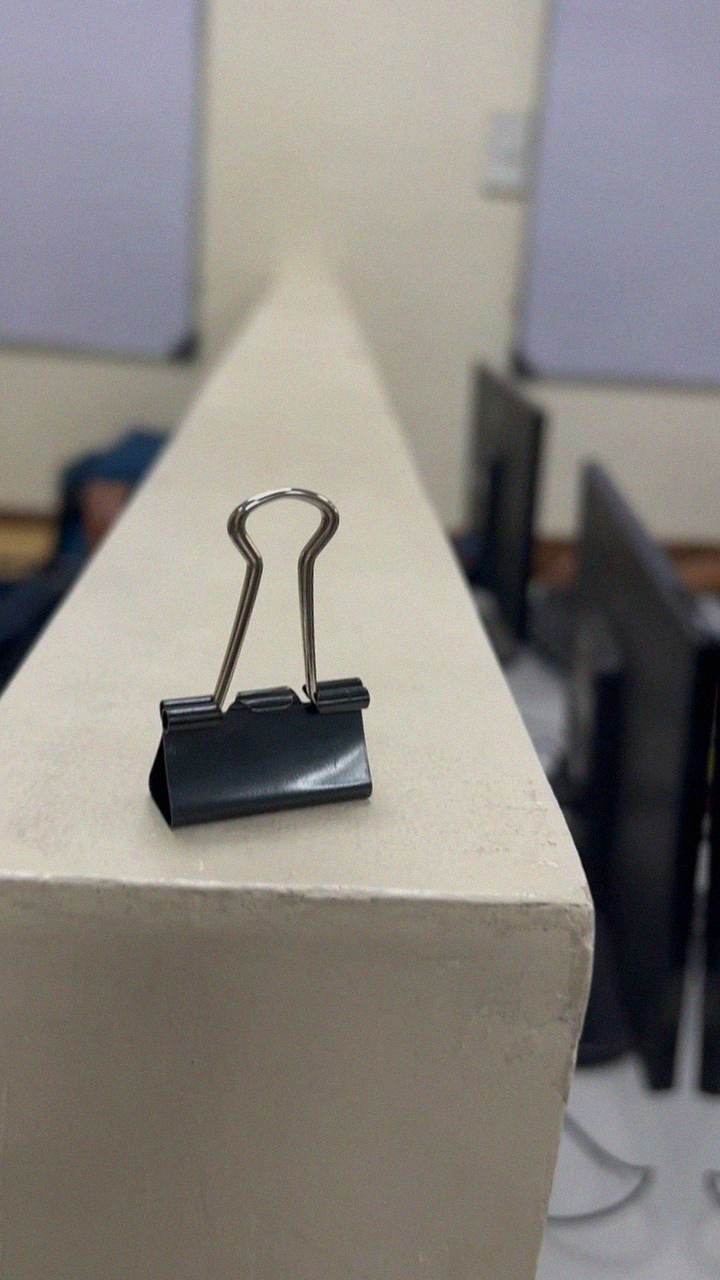kep_giay: (138, 473, 398, 840)
